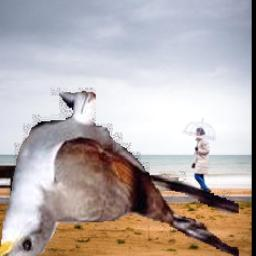Cuckoo: (0, 89, 240, 256)
